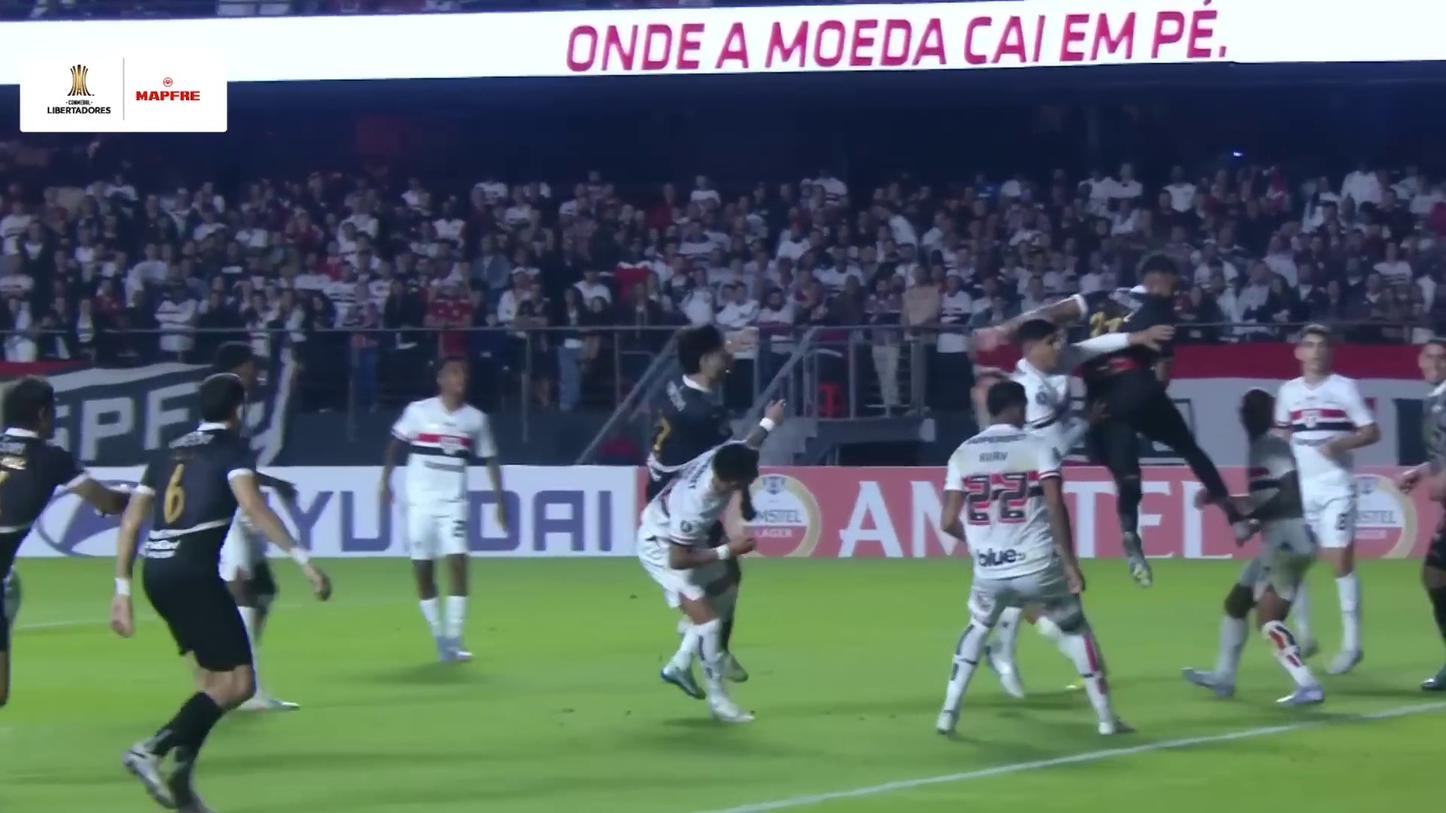player: (109, 370, 333, 813), (972, 254, 1261, 588), (935, 379, 1135, 737), (643, 322, 788, 684), (1178, 386, 1326, 705), (0, 375, 132, 709), (633, 438, 782, 725), (1266, 315, 1383, 676), (376, 352, 511, 664), (213, 340, 303, 713), (1011, 318, 1175, 460), (1391, 335, 1446, 690)
